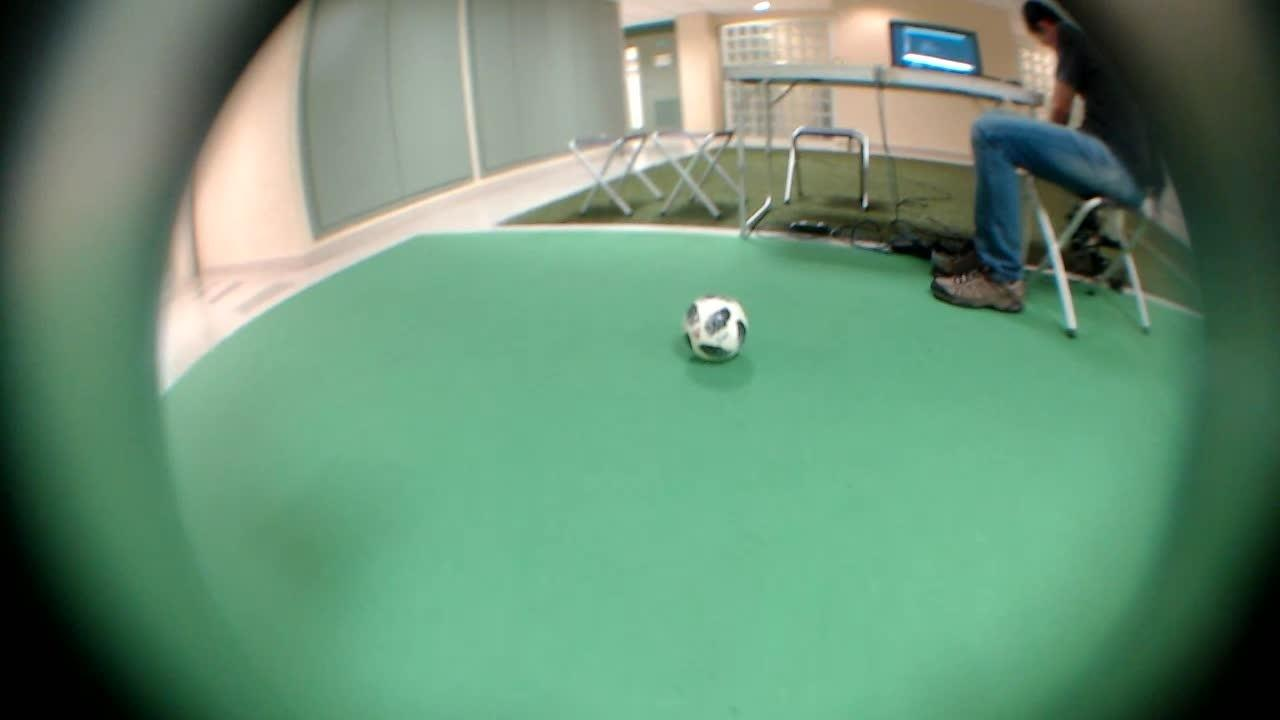ball: (676, 279, 765, 370)
